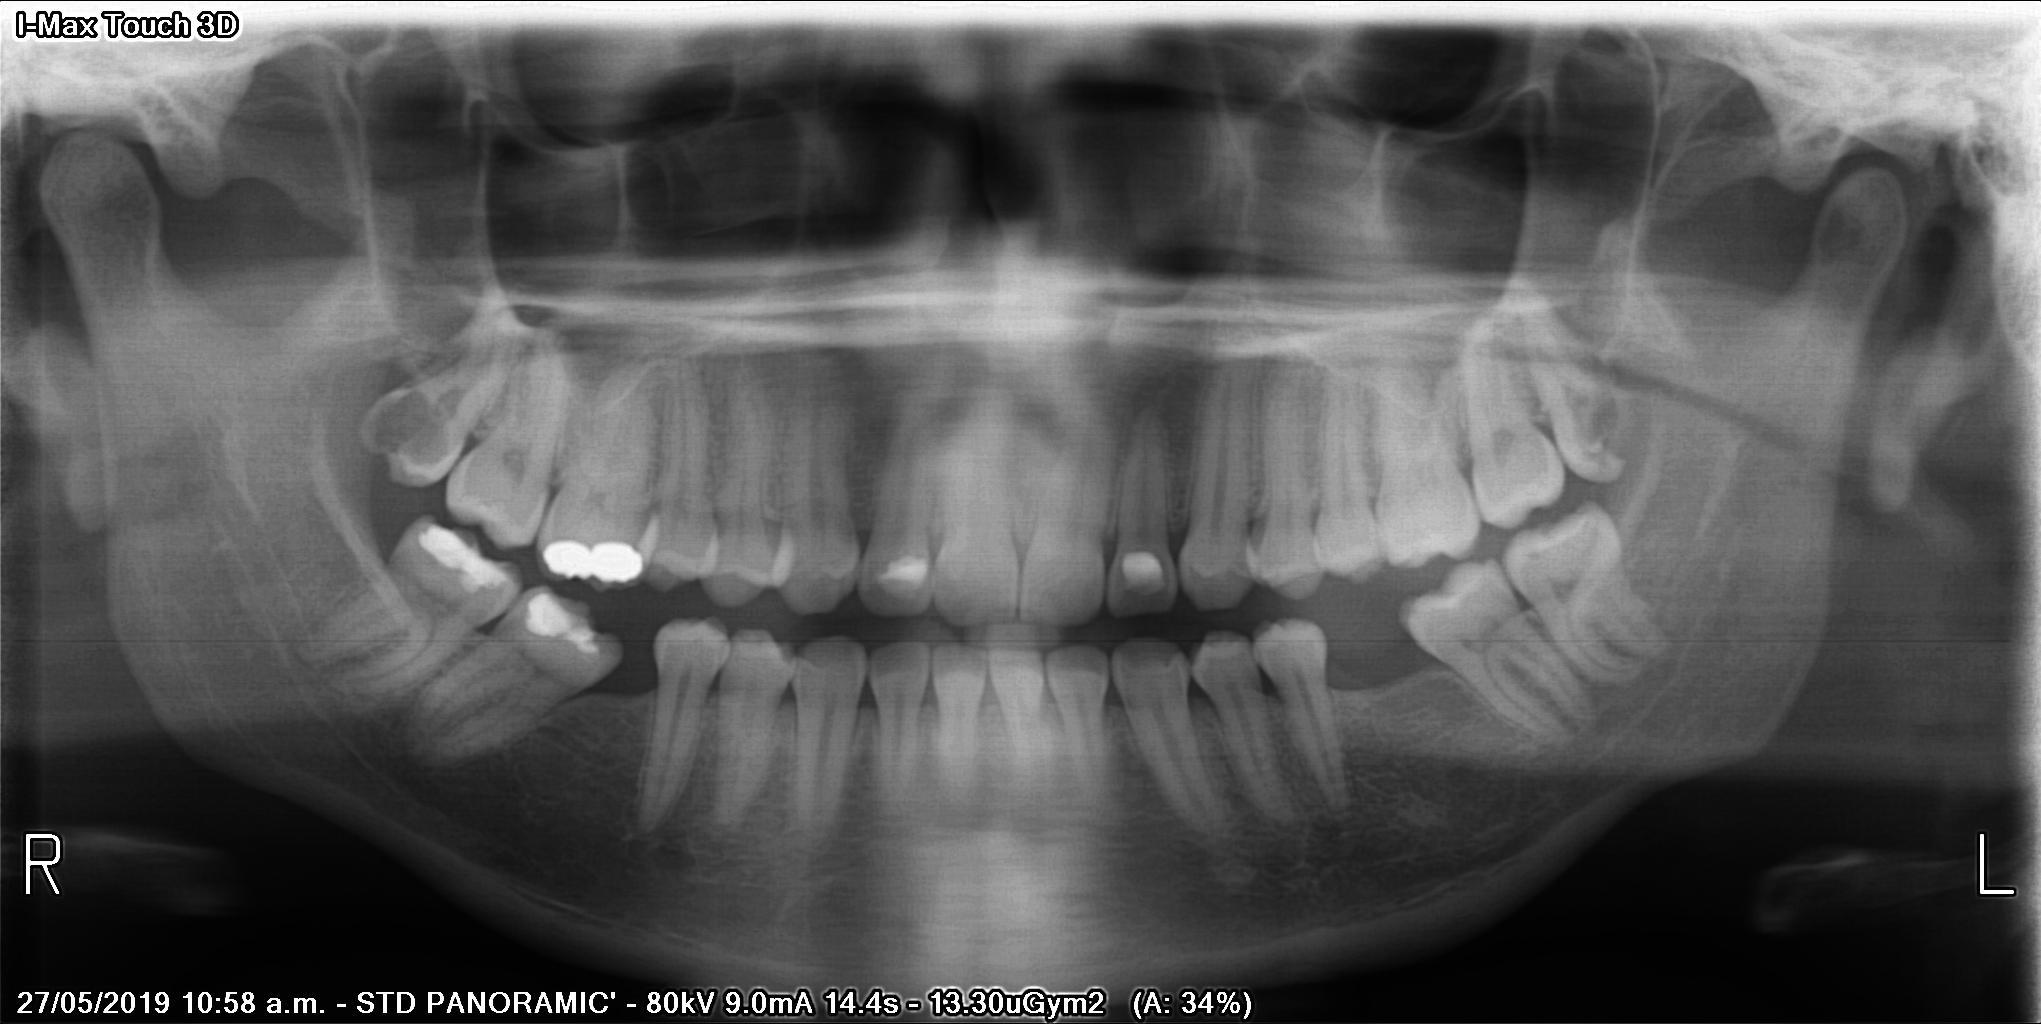Çürük: (417, 512, 521, 596), (534, 521, 657, 589), (524, 576, 606, 674), (1116, 547, 1171, 606), (879, 554, 932, 605)
Çürük Bölgesi: (367, 392, 461, 475), (1576, 398, 1617, 458)
